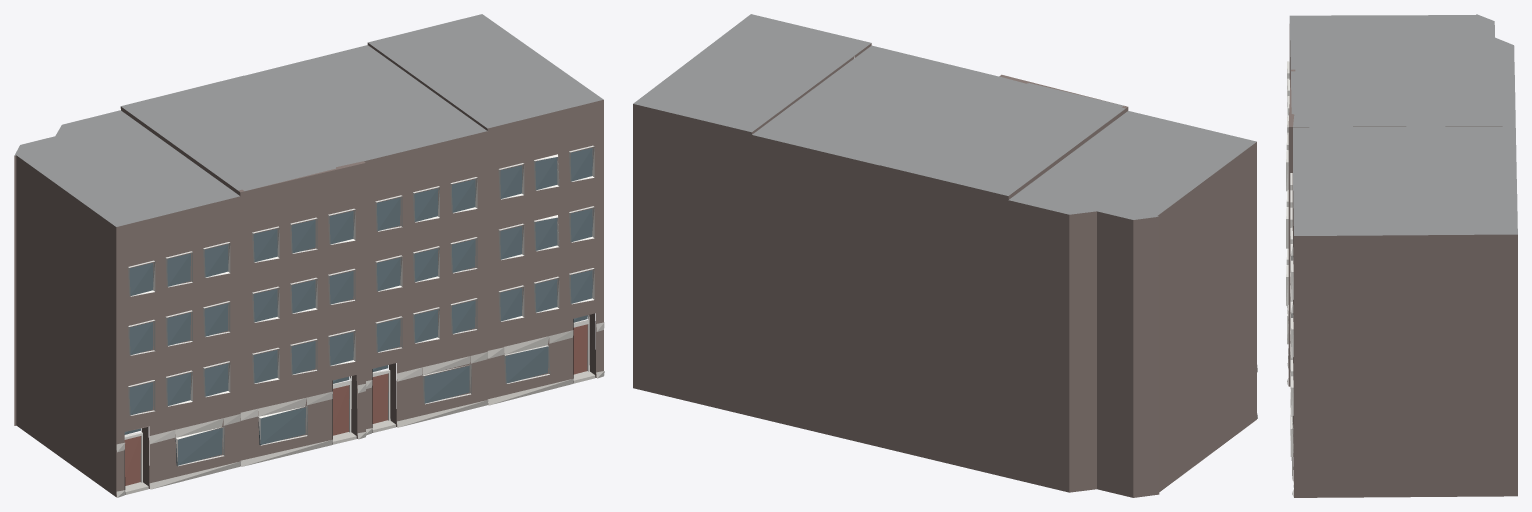
The model's file is chunk-face-steyn-9-19-r1.lod2.glb.
3 views of the same model, side by side, from view 1: azimuth 30°, elevation 25°; view 2: azimuth 150°, elevation 25°; view 3: azimuth 270°, elevation 25° (orthographic). The views are drawn at different scales.
Visible parts, largest first — view 1: lod2; view 2: lod2; view 3: lod2.
Boxes of the visible parts, x1=… form: lod2: x1=14, y1=14, x2=604, y2=497; lod2: x1=633, y1=14, x2=1257, y2=497; lod2: x1=1286, y1=14, x2=1517, y2=497.
Size of the model in its own units: 26.39 by 14.13 by 11.34.
